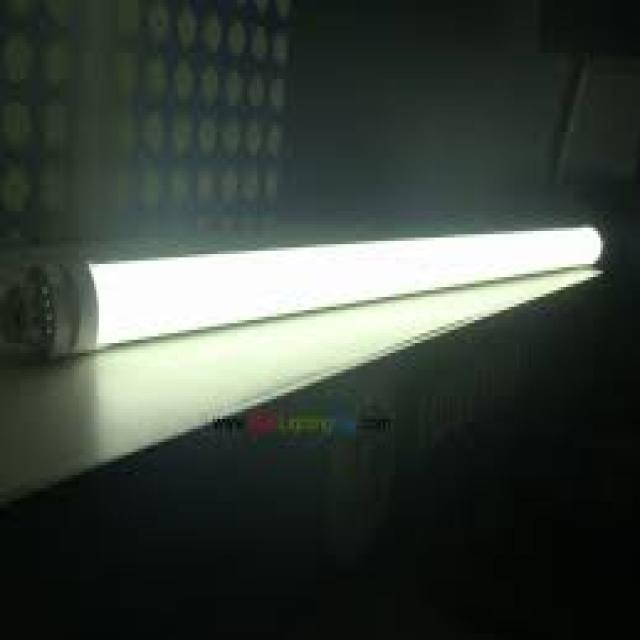tubelight_on: (26, 220, 610, 361)
